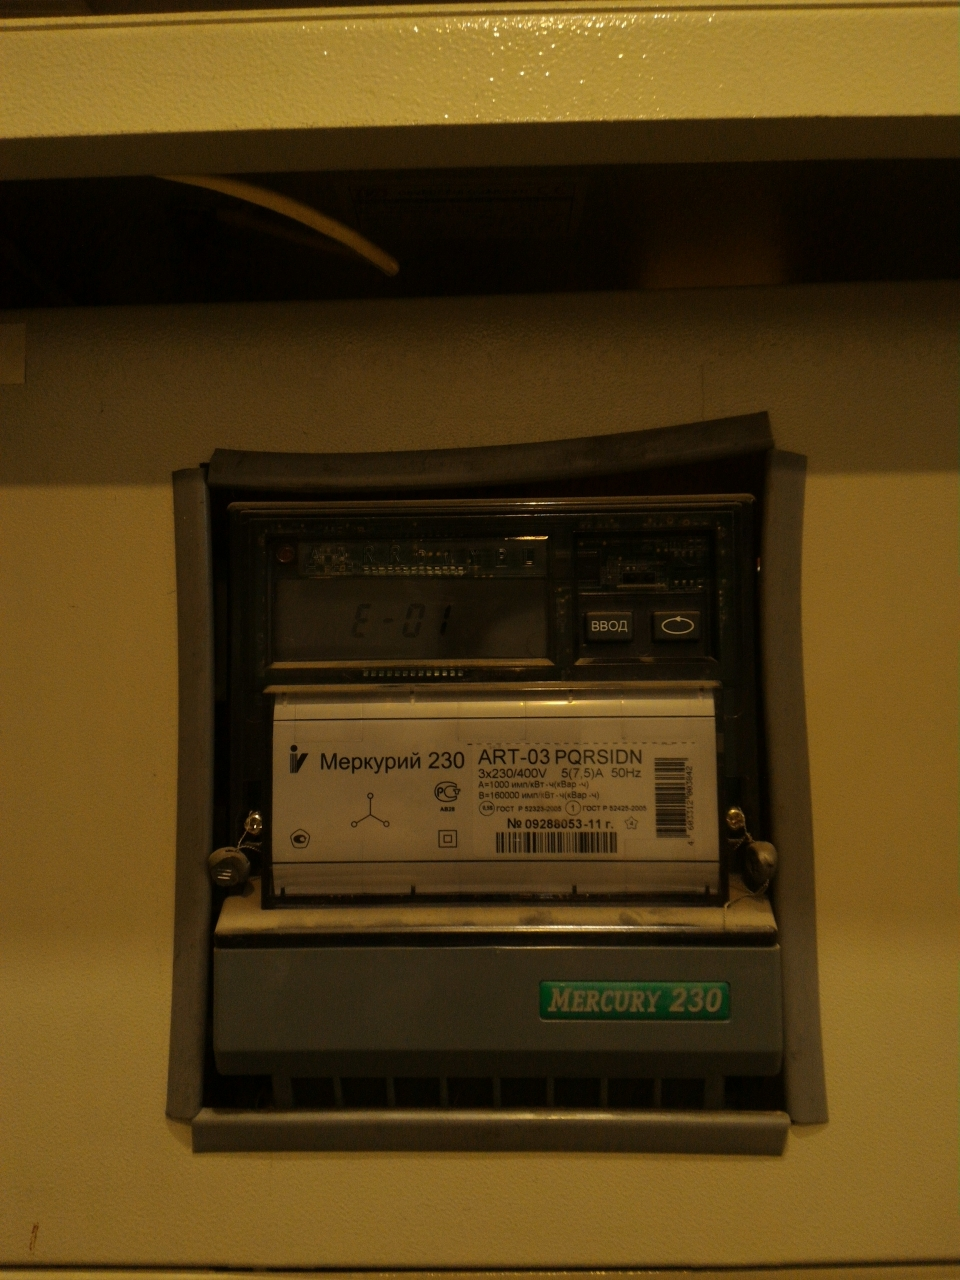screen: (263, 567, 564, 673)
